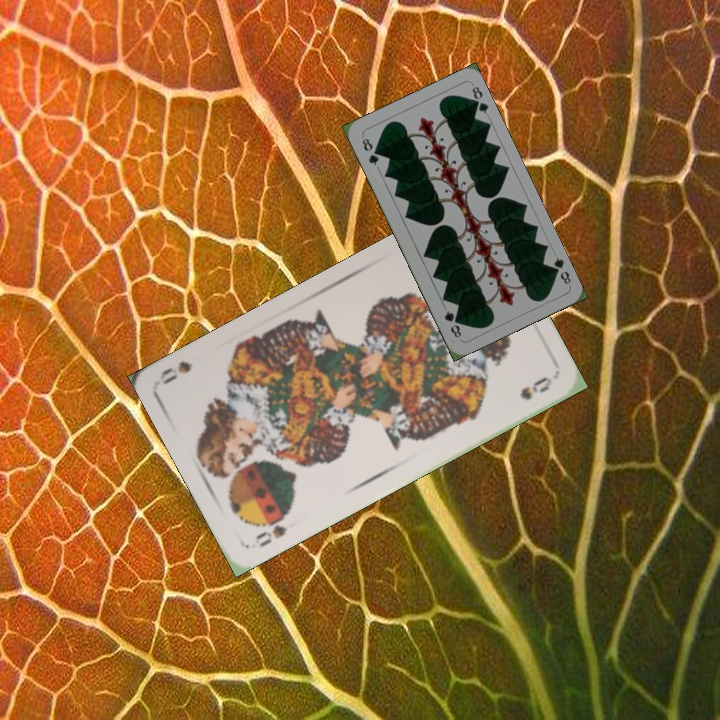G8: (546, 253, 574, 287), (358, 134, 381, 168)
SO: (250, 508, 294, 550)
